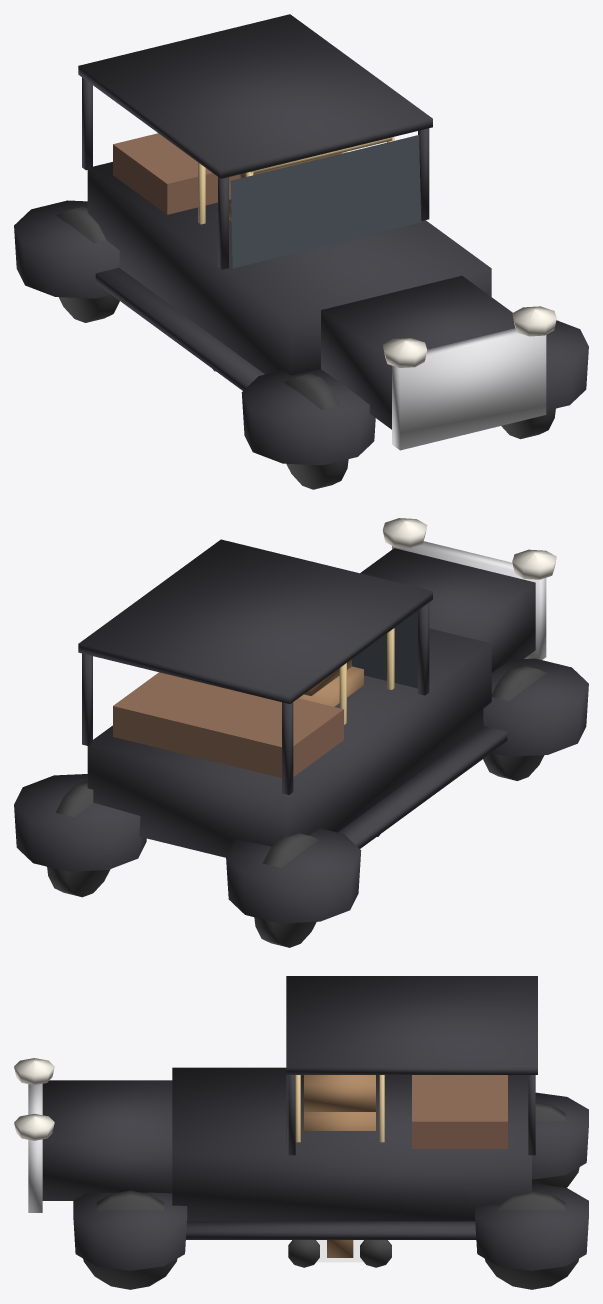
Rendered from props.glb.
The picture shows the model from 3 angles, top to bottom: view 1: azimuth 30°, elevation 25°; view 2: azimuth 150°, elevation 25°; view 3: azimuth 270°, elevation 25°; orthographic projection. The views are drawn at different scales.
Parts seen in each view (by area): view 1: KEEP CarA, KEEP Trolley; view 2: KEEP CarA, KEEP Trolley; view 3: KEEP CarA, KEEP Trolley, KEEP Suitcase.
Part boxes in pixels (x1,y1,x2,y2): KEEP CarA: (14,14,588,489); KEEP Trolley: (198,137,394,371); KEEP CarA: (14,518,588,947); KEEP Trolley: (299,628,394,836); KEEP CarA: (14,976,588,1289); KEEP Trolley: (288,1075,391,1267); KEEP Suitcase: (327,1240,353,1257).
Size of the model in its own units: 2.8 by 2.02 by 4.8.
